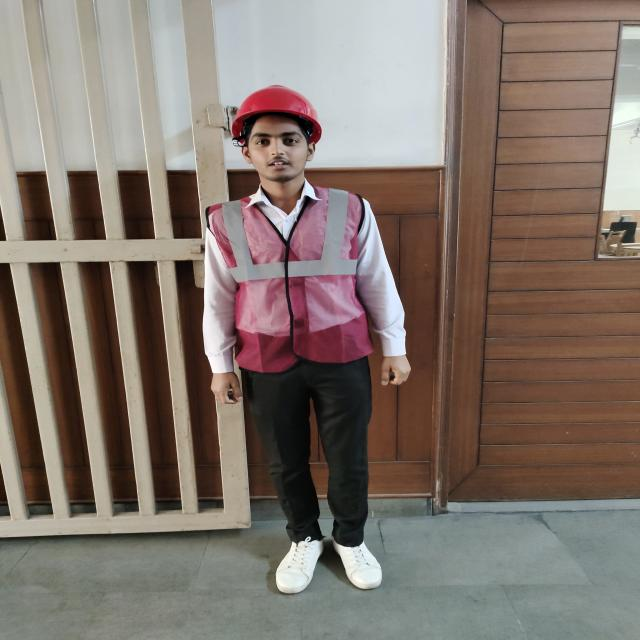safe: (205, 85, 405, 593)
